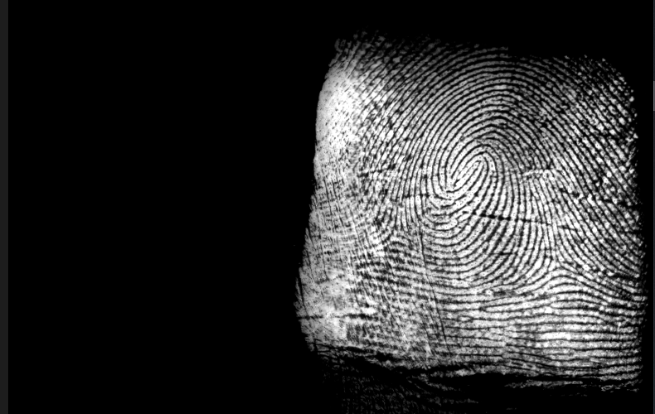nucelo: (464, 145, 495, 186)
verticilo: (380, 220, 407, 247), (540, 249, 568, 275)
